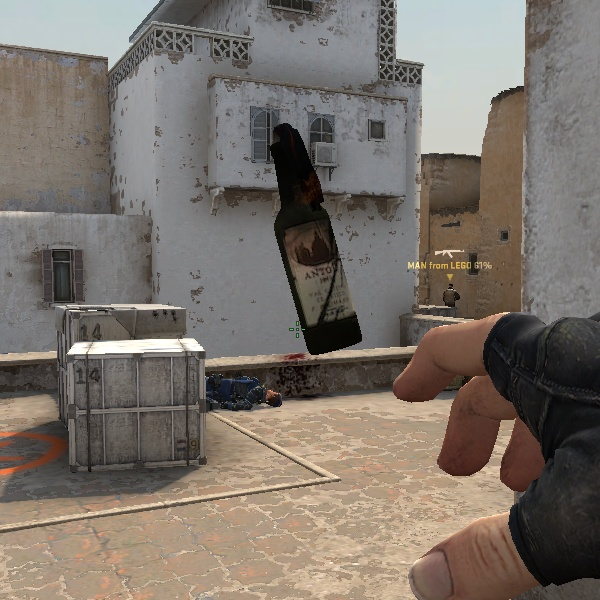t_body: (443, 284, 461, 307)
t_head: (448, 284, 454, 291)
